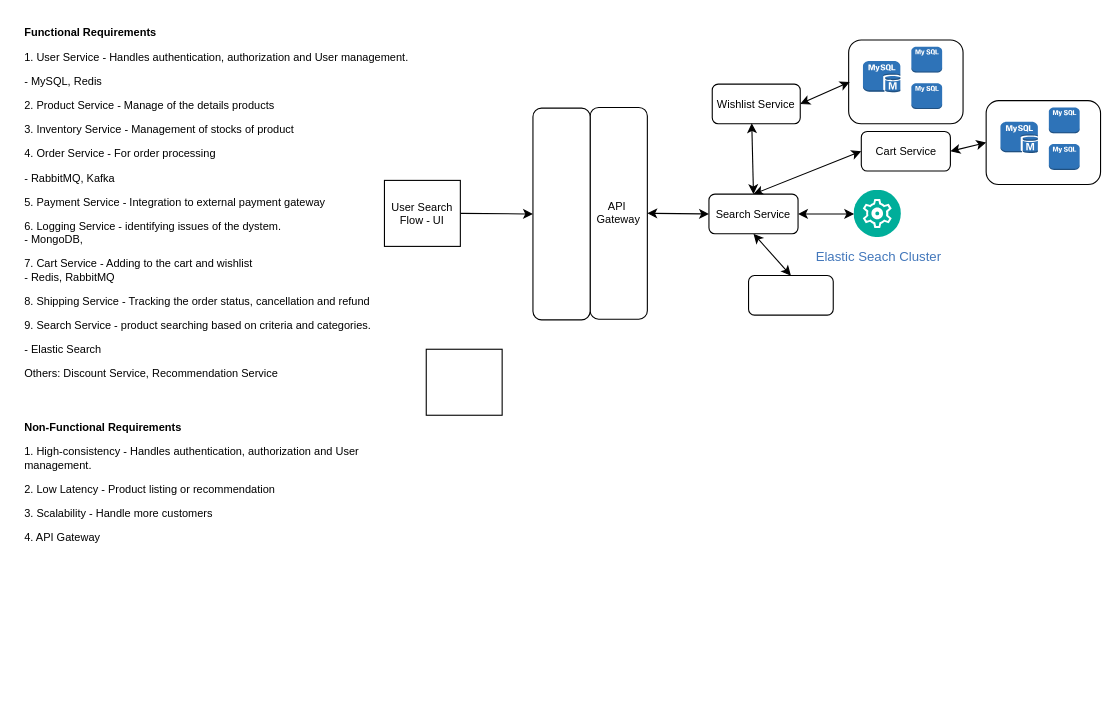
Image size: 1120x705. Some labels were removed from this diagram. The centre of each missing label's shape, as x and y in pixels:
"Load Balancer" belongs at point (561, 213).
"User Purchase Flow - UI" belongs at point (463, 381).
"User Service" belongs at point (790, 294).
